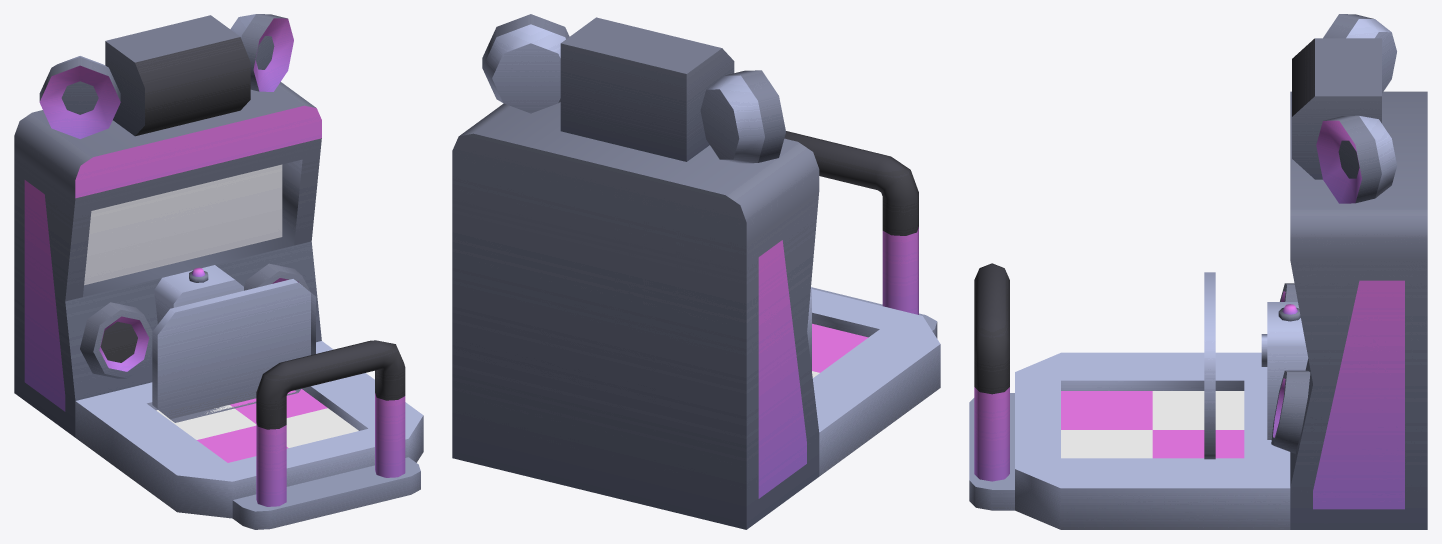
The model's file is dance-machine.glb.
3 views of the same model, side by side, from view 1: azimuth 30°, elevation 25°; view 2: azimuth 150°, elevation 25°; view 3: azimuth 270°, elevation 25° (orthographic). The views are drawn at different scales.
Visible parts, largest first — view 1: dance-machine, dance-machine.001; view 2: dance-machine; view 3: dance-machine, dance-machine.001.
Boxes of the visible parts, x1,y1,x2,y2 form: dance-machine: [14, 14, 423, 529]; dance-machine.001: [152, 279, 315, 422]; dance-machine: [452, 14, 940, 529]; dance-machine: [969, 14, 1427, 529]; dance-machine.001: [1204, 272, 1215, 459].
Size of the model in its own units: 2.17 by 2.85 by 3.
1 material, 1 textured.
